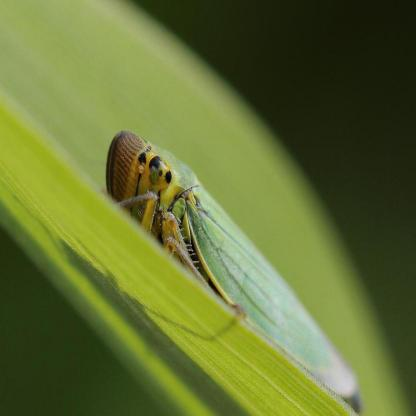Green-Leafhopper: (100, 128, 364, 412)
